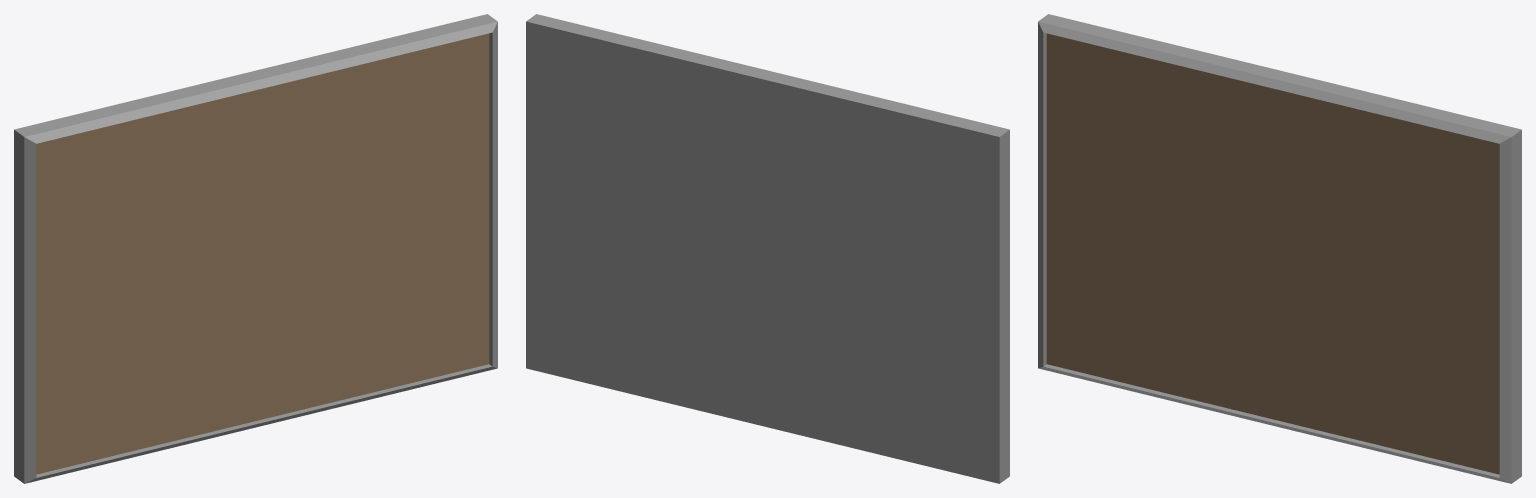
Rendered from Board.fbx.
The picture shows the model from 3 angles, left to right: view 1: azimuth 30°, elevation 25°; view 2: azimuth 150°, elevation 25°; view 3: azimuth 330°, elevation 25°; orthographic projection.
Parts seen in each view (by area): view 1: Board; view 2: Board; view 3: Board.
Part boxes in pixels (x1,y1,x2,y2): Board: (14,14,497,483); Board: (526,14,1009,483); Board: (1038,14,1521,483).
Size of the model in its own units: 200 by 140 by 10.
